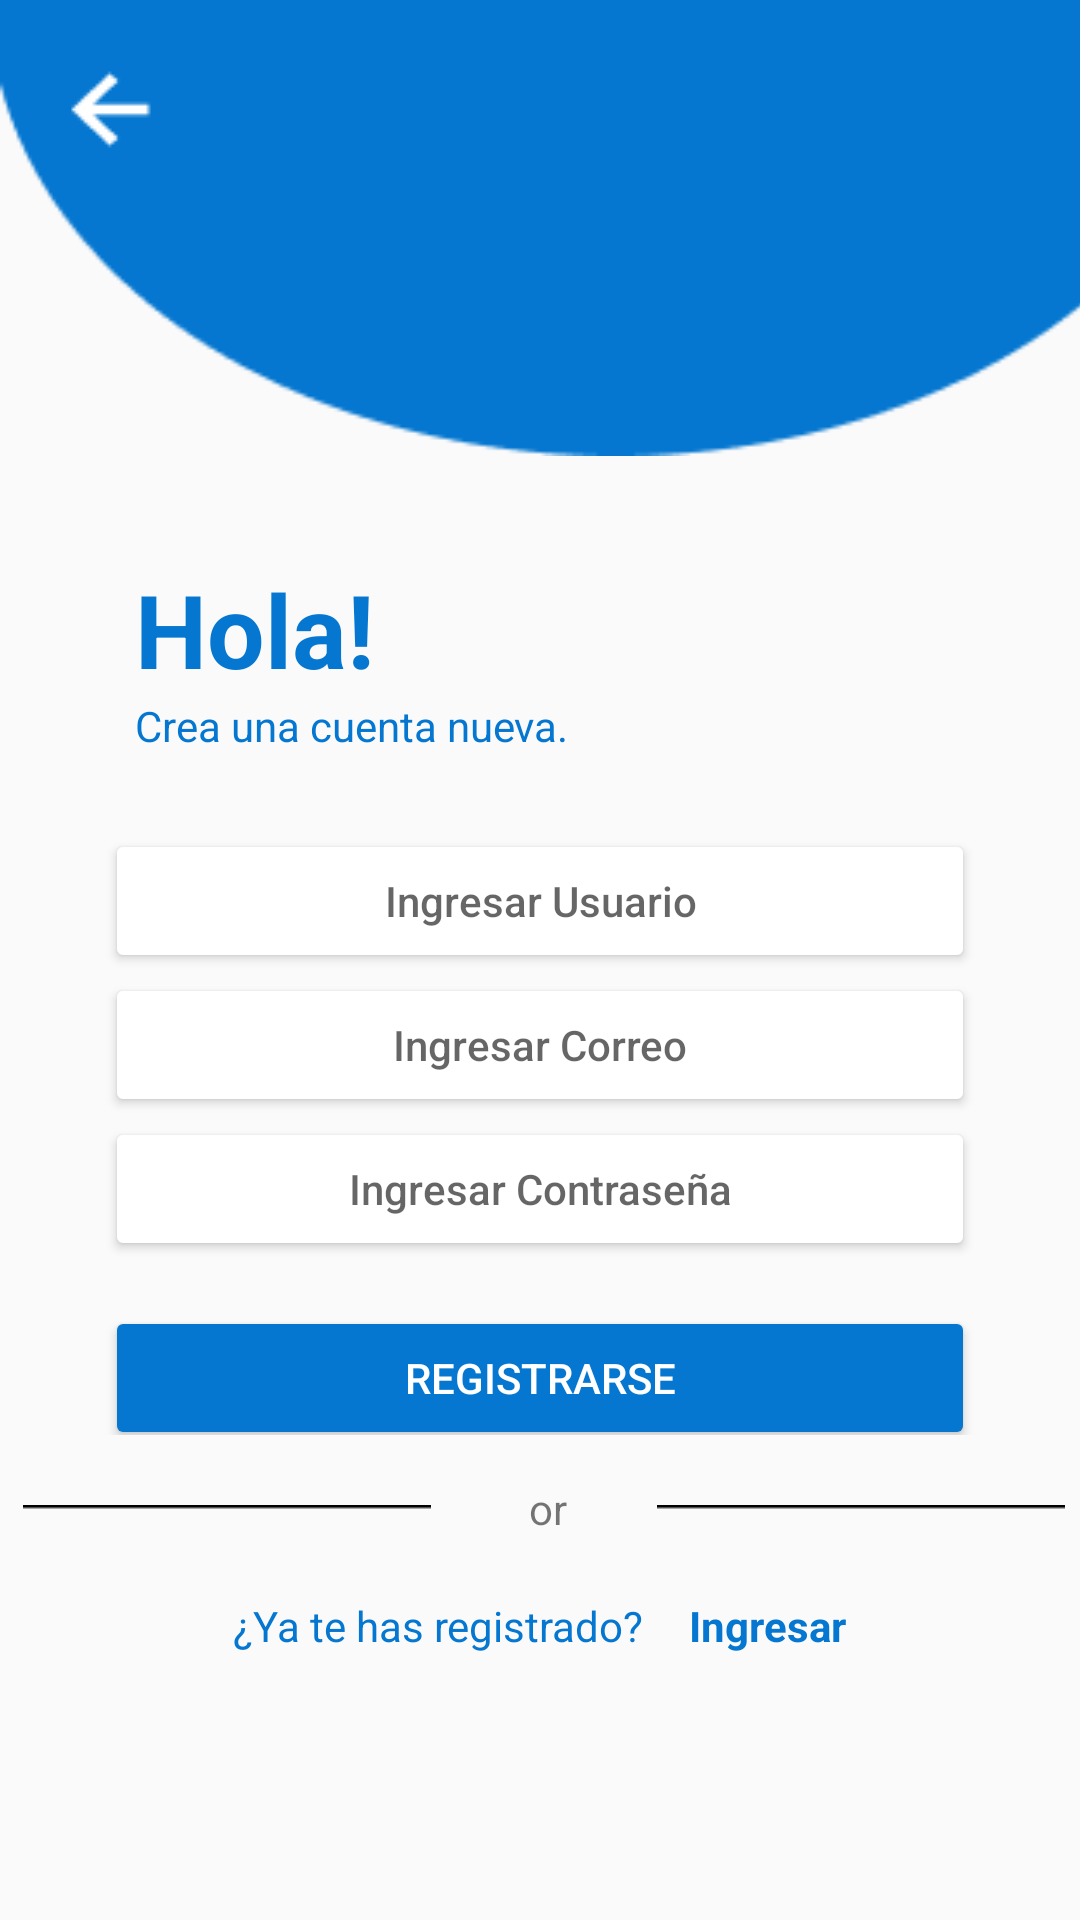

Where to tap for icons on this 1080px x 1920px app screen, as (x=x, y=y):
flecha izquierda: (x=111, y=109)
